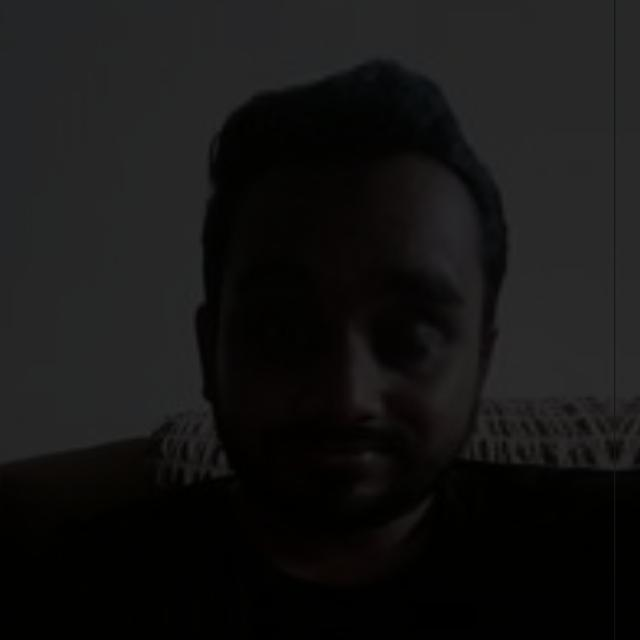Disgust: (146, 153, 516, 540)
